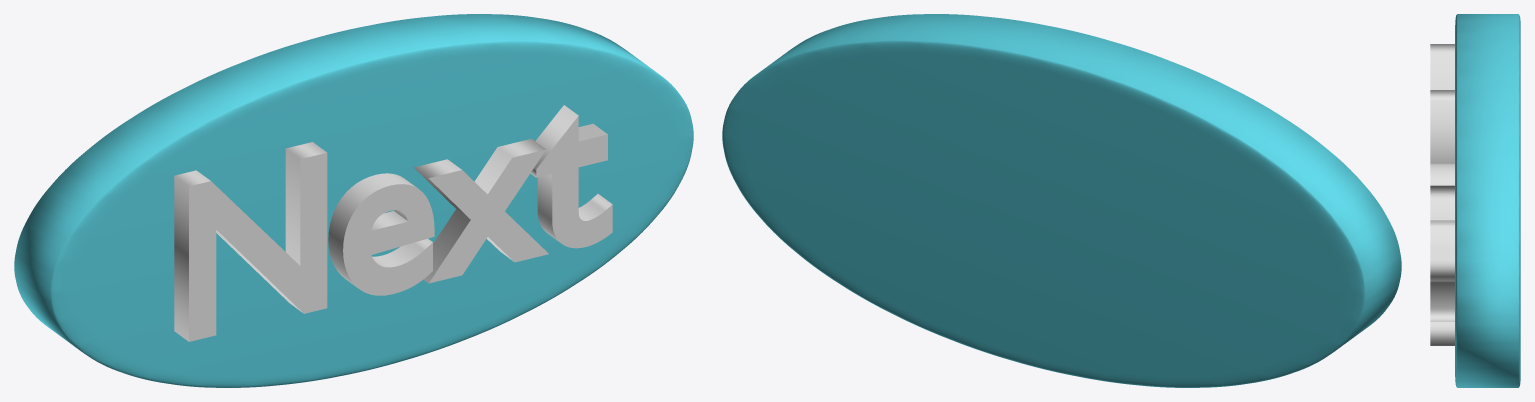
The model's file is next.glb.
3 views of the same model, side by side, from view 1: azimuth 30°, elevation 25°; view 2: azimuth 150°, elevation 25°; view 3: azimuth 270°, elevation 25° (orthographic). The views are drawn at different scales.
Visible parts, largest first — view 1: Cylinder, Text; view 2: Cylinder; view 3: Cylinder, Text.
Part boxes in pixels (x1,y1,x2,y2): Cylinder: (14, 14, 693, 387); Text: (174, 105, 612, 341); Cylinder: (722, 14, 1401, 387); Cylinder: (1455, 14, 1520, 387); Text: (1430, 44, 1454, 345).
Bounding box in the file's own units: 2.27 × 1.04 × 0.326.
